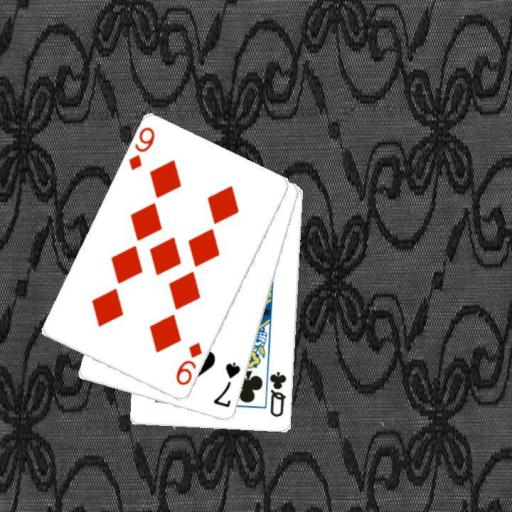7S: (211, 359, 243, 410)
9D: (172, 339, 204, 388), (125, 124, 157, 172)
QC: (267, 368, 289, 419)
